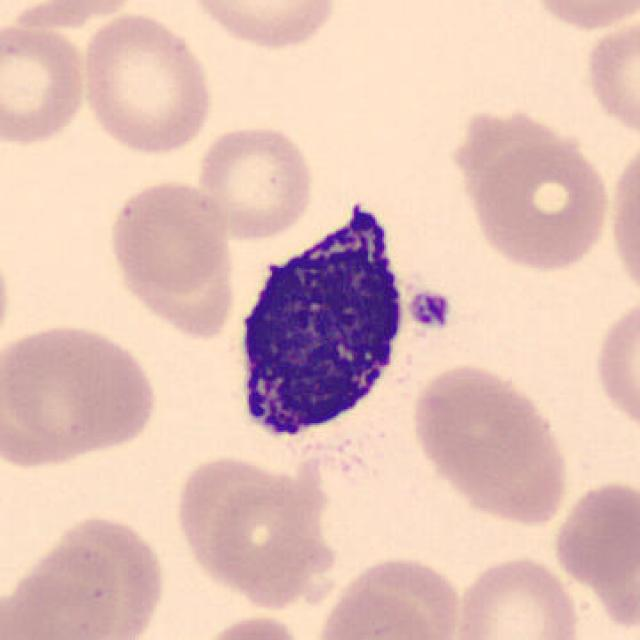basophil: (225, 198, 408, 412)
platelets: (412, 279, 462, 338)
rbc: (410, 362, 571, 522), (463, 105, 607, 274), (0, 332, 178, 458), (85, 21, 222, 157), (98, 187, 230, 309), (175, 122, 318, 231), (174, 450, 296, 566), (219, 477, 335, 590), (113, 250, 254, 340), (76, 505, 173, 625), (0, 31, 98, 147), (560, 472, 640, 608), (357, 538, 462, 634), (455, 557, 571, 640), (324, 569, 441, 640), (35, 538, 132, 620), (3, 565, 105, 639), (587, 16, 640, 125), (197, 4, 331, 47), (601, 298, 640, 422), (613, 140, 640, 276), (551, 0, 640, 26)
